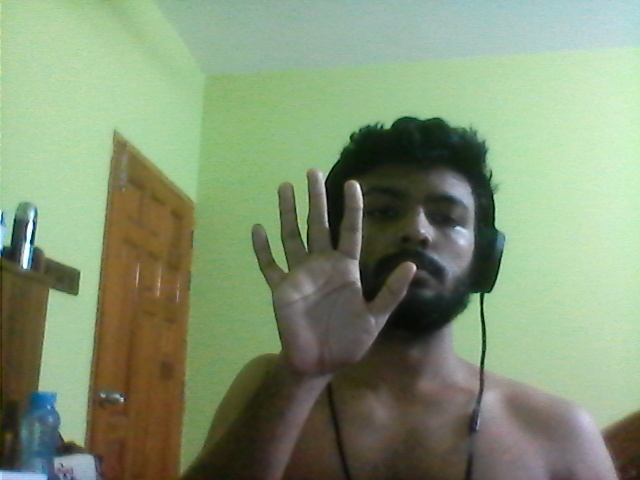Hello: (239, 169, 425, 386)
